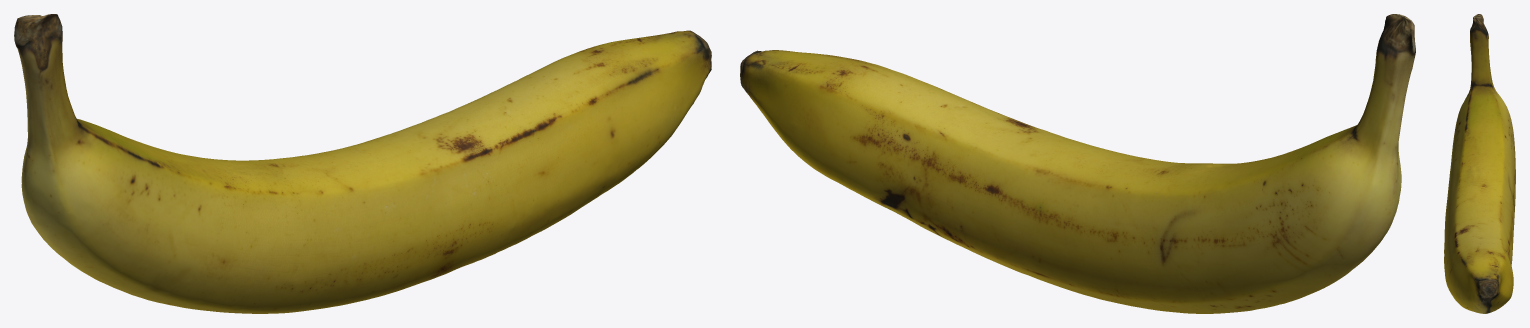
Rendered from banana.obj.
3 views of the same model, side by side, from view 1: azimuth 30°, elevation 25°; view 2: azimuth 150°, elevation 25°; view 3: azimuth 270°, elevation 25° (orthographic). The views are drawn at different scales.
Parts seen in each view (by area): view 1: banana.obj; view 2: banana.obj; view 3: banana.obj.
Boxes of the visible parts, x1,y1,x2,y2 form: banana.obj: (14, 14, 711, 313); banana.obj: (740, 14, 1415, 313); banana.obj: (1444, 14, 1515, 313).
Bounding box in the file's own units: 0.2293 × 0.1138 × 0.0404.
Materials: 1 (1 with a texture image).
